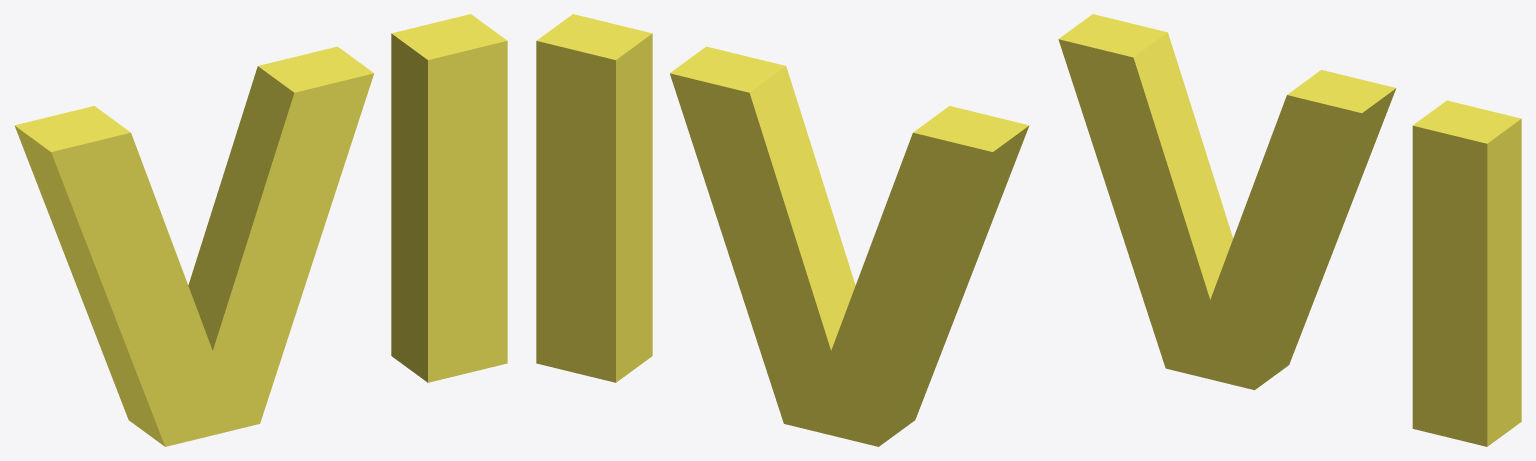
The model's file is suku_besar_vi.glb.
3 views of the same model, side by side, from view 1: azimuth 30°, elevation 25°; view 2: azimuth 150°, elevation 25°; view 3: azimuth 330°, elevation 25° (orthographic). The views are drawn at different scales.
Visible parts, largest first — view 1: geometry_0; view 2: geometry_0; view 3: geometry_0.
Boxes of the visible parts, <box> form: geometry_0: <box>14,14,507,446</box>; geometry_0: <box>536,14,1029,446</box>; geometry_0: <box>1058,14,1521,446</box>.
Bounding box in the file's own units: 10.79 × 7.29 × 1.5.
